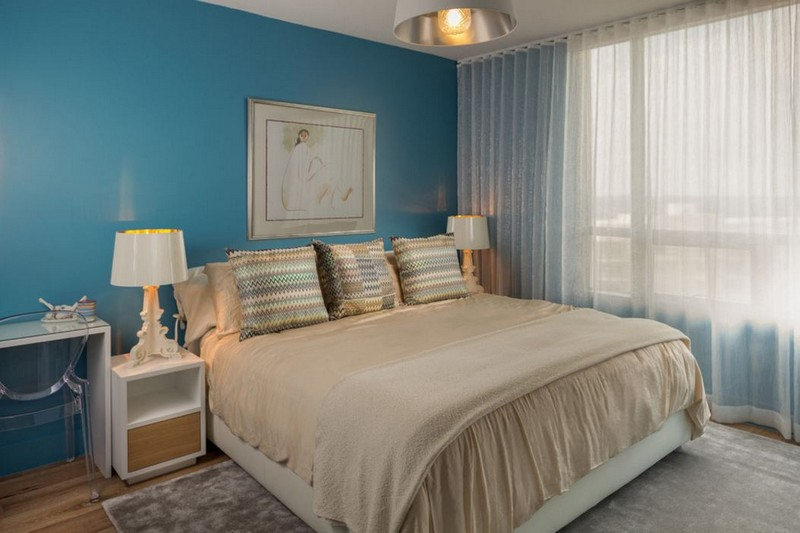bed: (178, 236, 706, 526)
chair: (1, 309, 99, 492)
lamp: (107, 225, 192, 369), (444, 209, 495, 285)
stool: (107, 346, 208, 480)
table: (5, 308, 113, 482)
